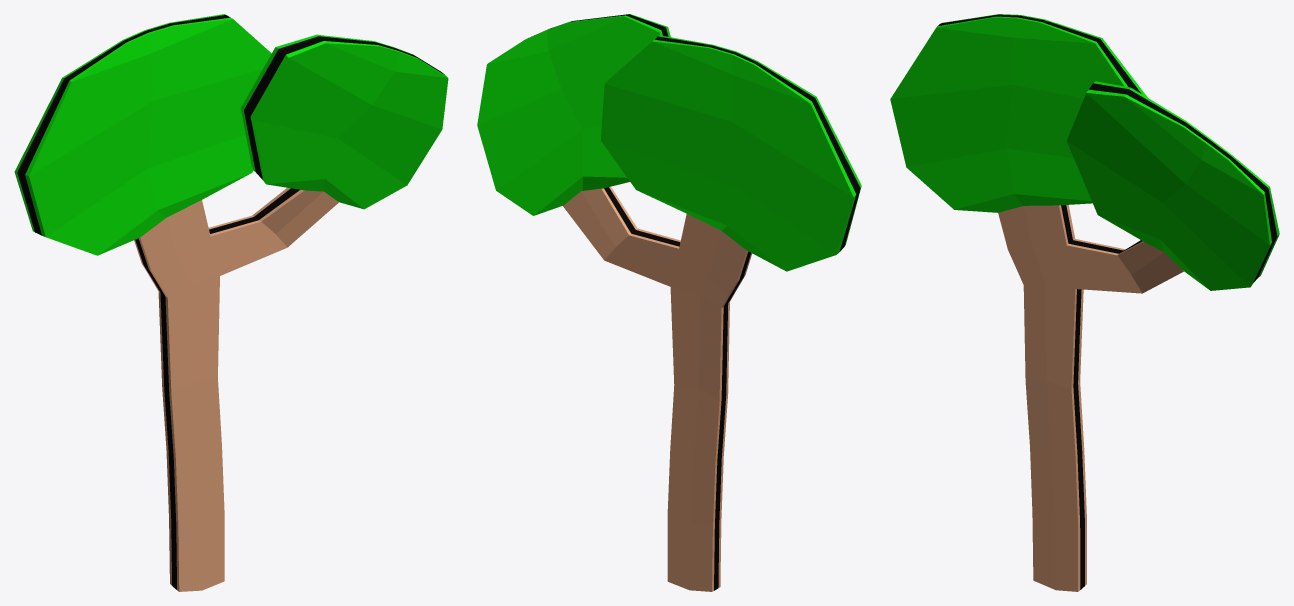
Rendered from CardboardTree03.fbx.
3 renders of one model, left to right at view 1: azimuth 30°, elevation 25°; view 2: azimuth 150°, elevation 25°; view 3: azimuth 330°, elevation 25°, orthographic. The views are drawn at different scales.
Parts seen in each view (by area): view 1: Cube.019; view 2: Cube.019; view 3: Cube.019.
Part boxes in pixels (box(x1,y1,x2,y2)): Cube.019: box(14, 14, 448, 591); Cube.019: box(477, 14, 861, 591); Cube.019: box(890, 14, 1279, 591).
Size of the model in its own units: 777 by 1043 by 140.
